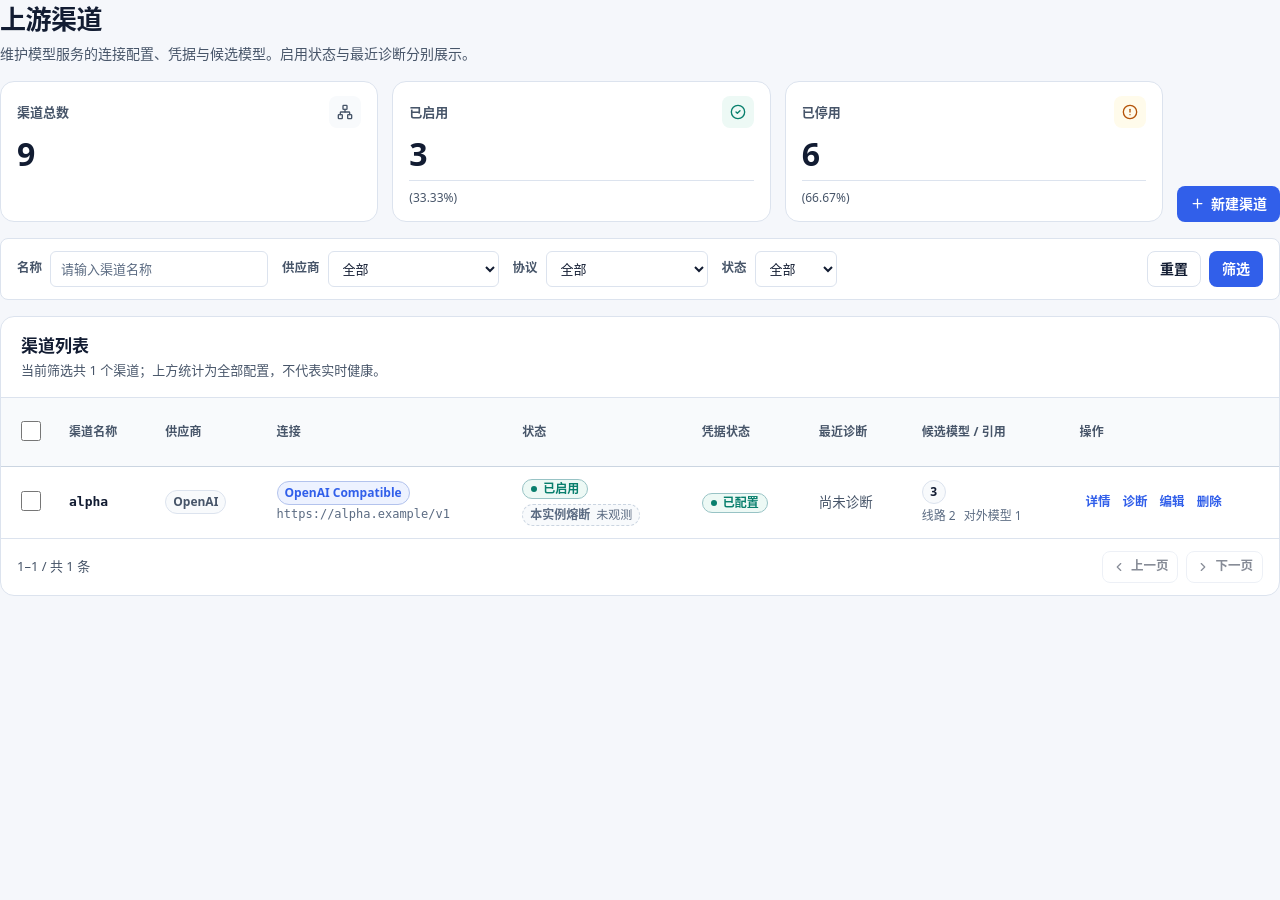
Test: ProvidersPage channel facts › previews the cascade and requires the channel name, leaving the channel present when deletion fails
Expected: the text "alpha" is shown, [69, 494, 108, 509]
Click the button "删除".
click(1209, 502)  # box [1191, 489, 1228, 516]
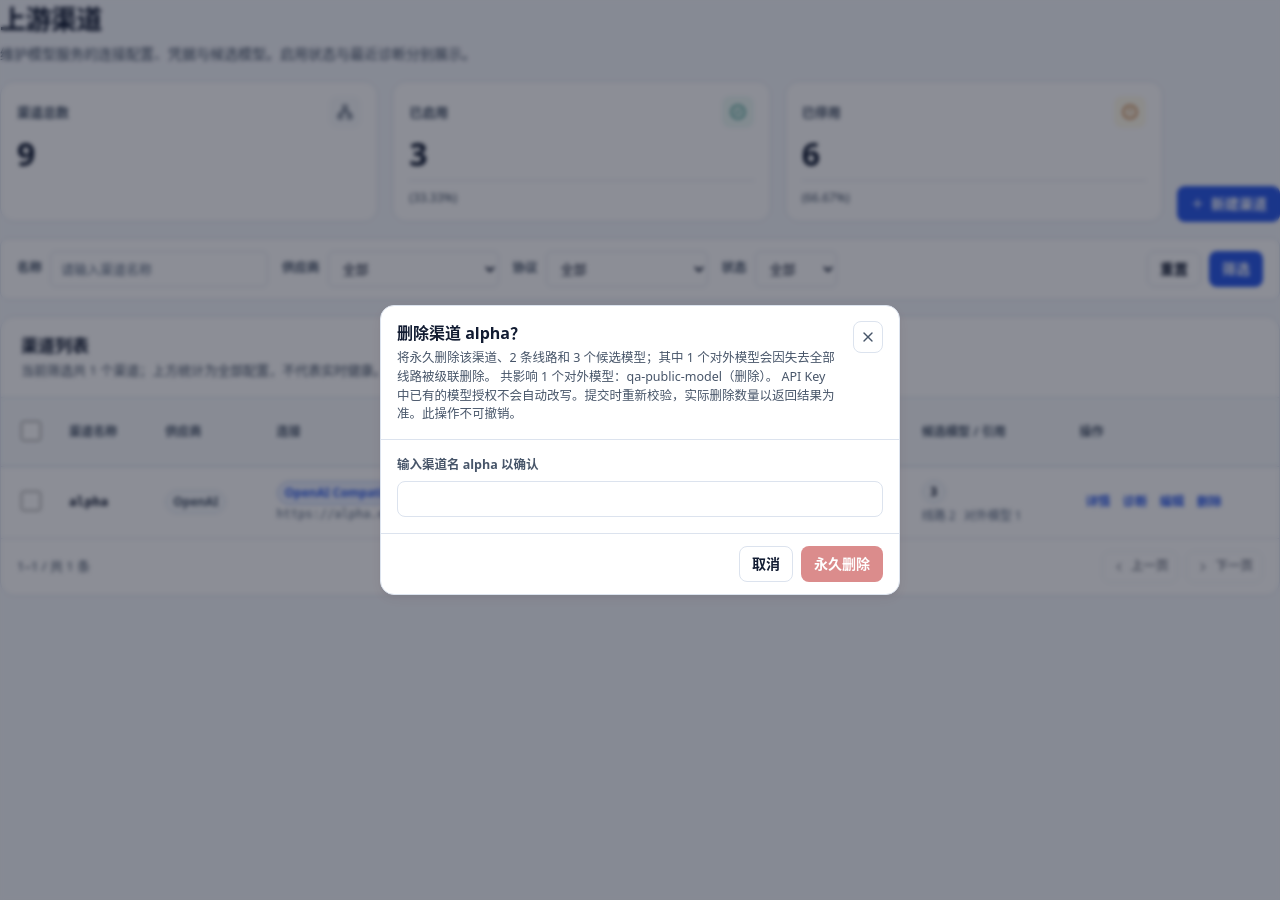
Result: the text "将永久删除该渠道、2 条线路和 3 个候选模型；其中 1 个对外模型会因失去全部线路被级联删除。" is shown at [397, 349, 835, 385]
Result: the text "共影响 1 个对外模型：qa-public-model（删除）。" is shown at [497, 368, 778, 385]
Result: the button "永久删除" is disabled at [801, 546, 883, 582]
Click the button "取消".
click(766, 564)  # box [739, 546, 793, 582]
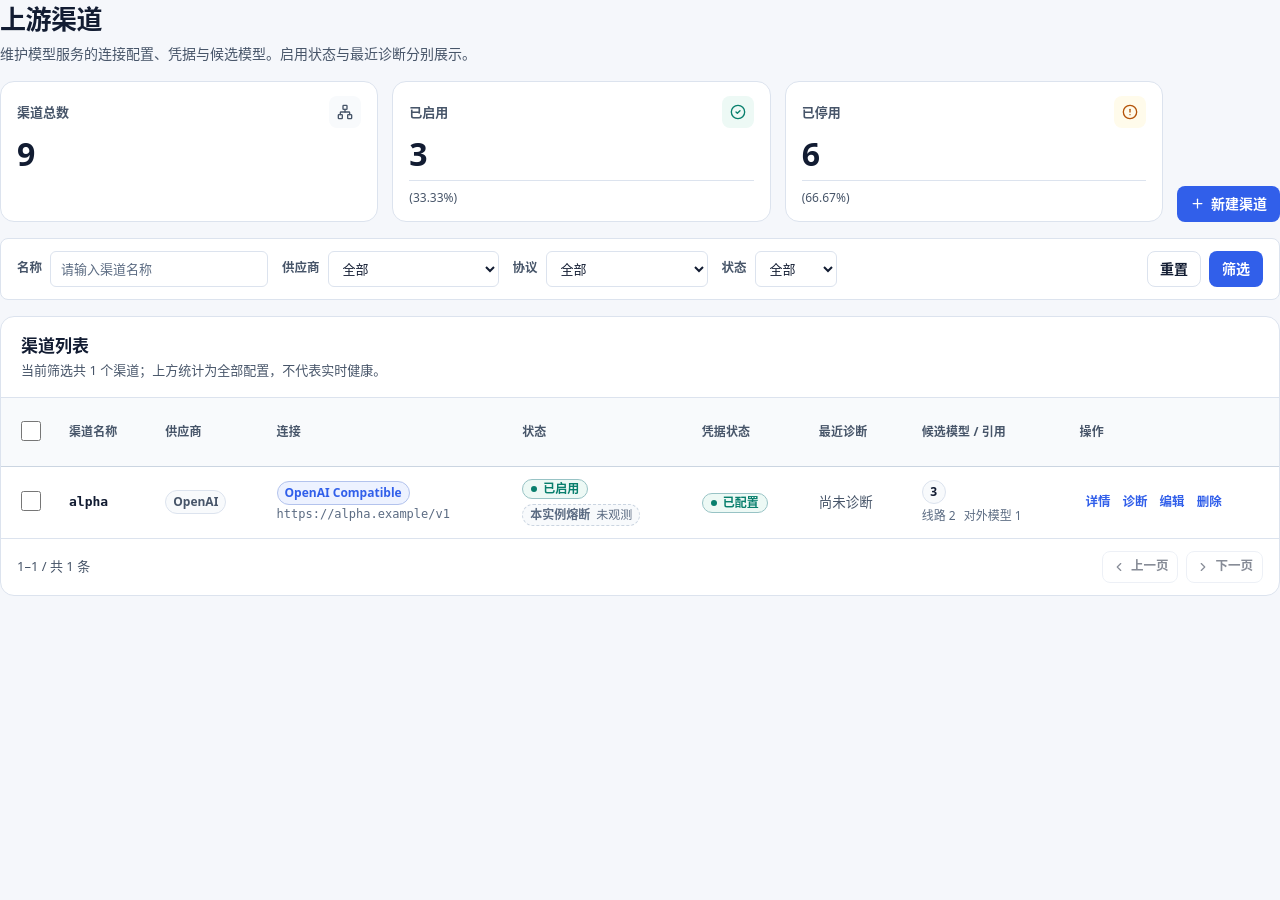
Click the button "删除".
click(1209, 502)  # box [1191, 489, 1228, 516]
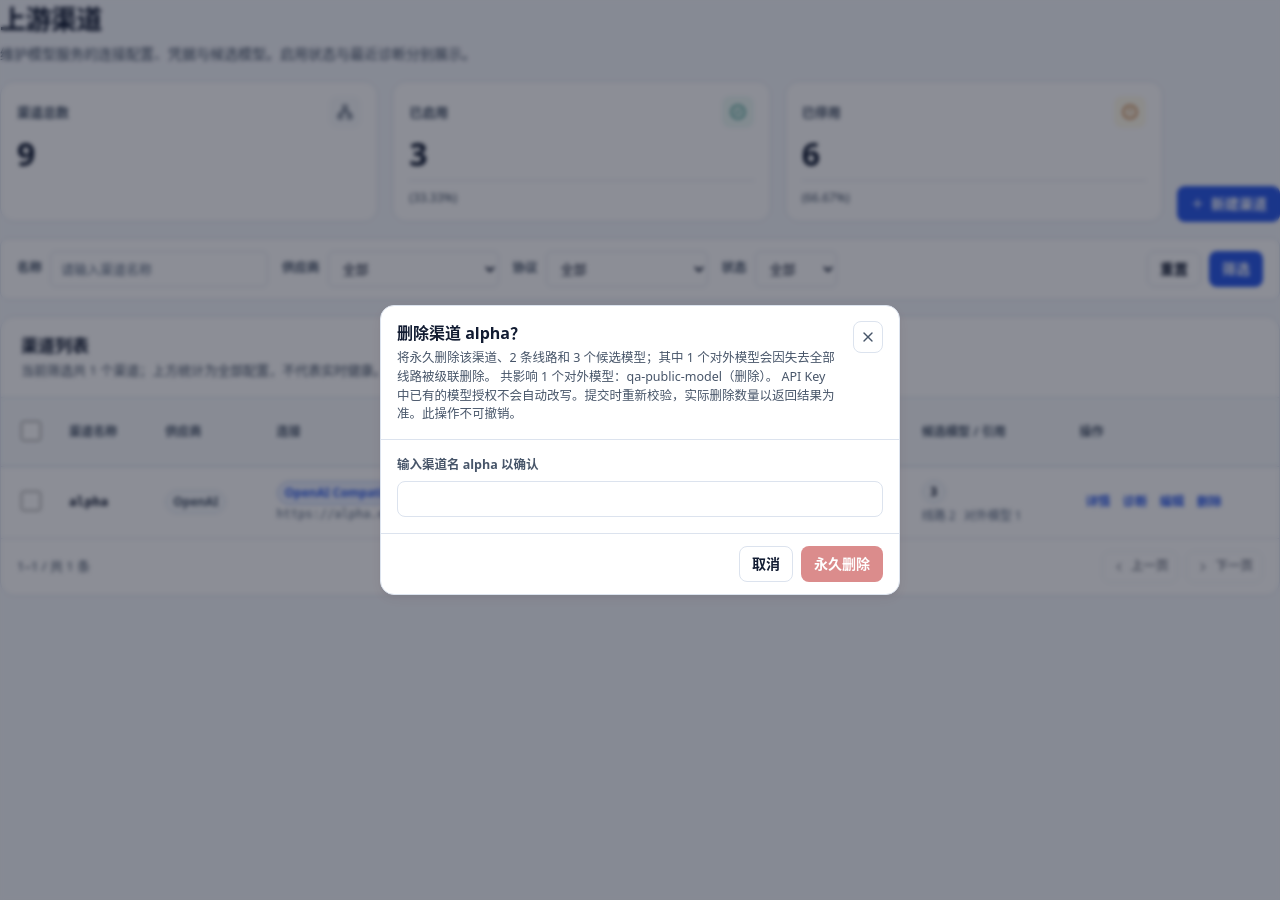
Type "alpha" into the field labelled "输入渠道名 alpha 以确认".
click(640, 499); type("alpha")  # box [397, 481, 883, 517]
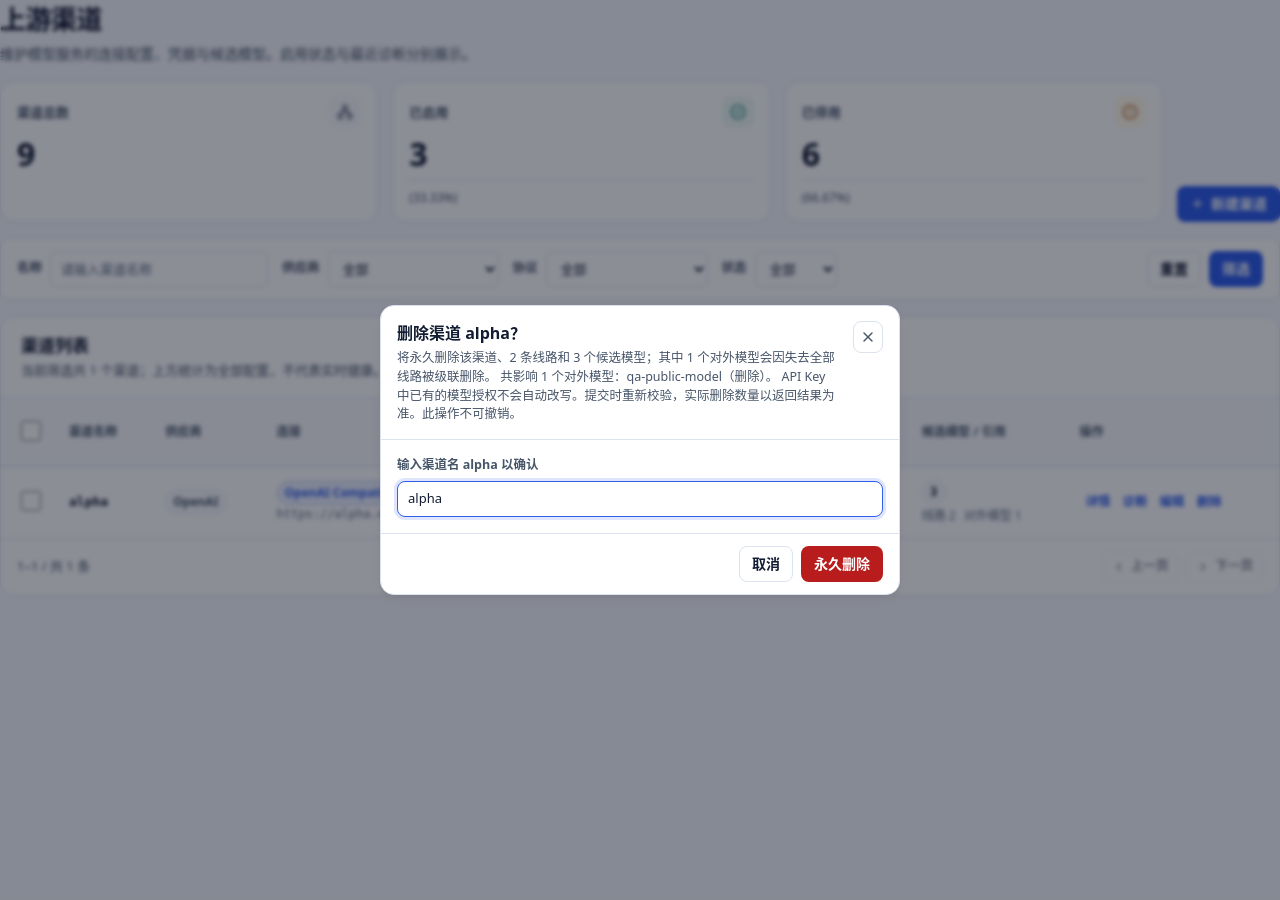
Result: the button "永久删除" is enabled
Click the button "永久删除".
click(842, 564)  # box [801, 546, 883, 582]
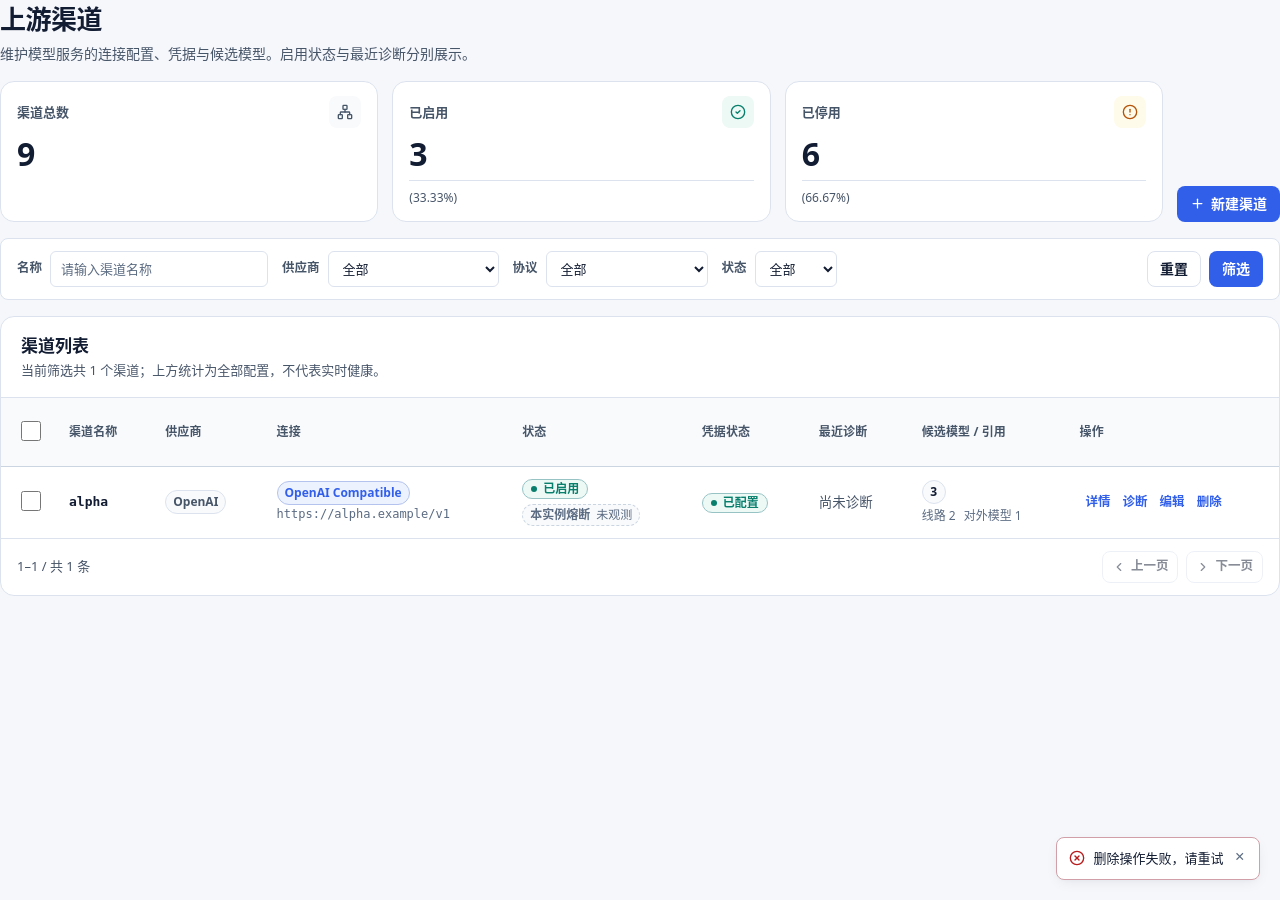
Expected: the text "alpha" is shown, [69, 494, 108, 509]
Result: the message shows "删除操作失败" at [1094, 848, 1224, 866]
